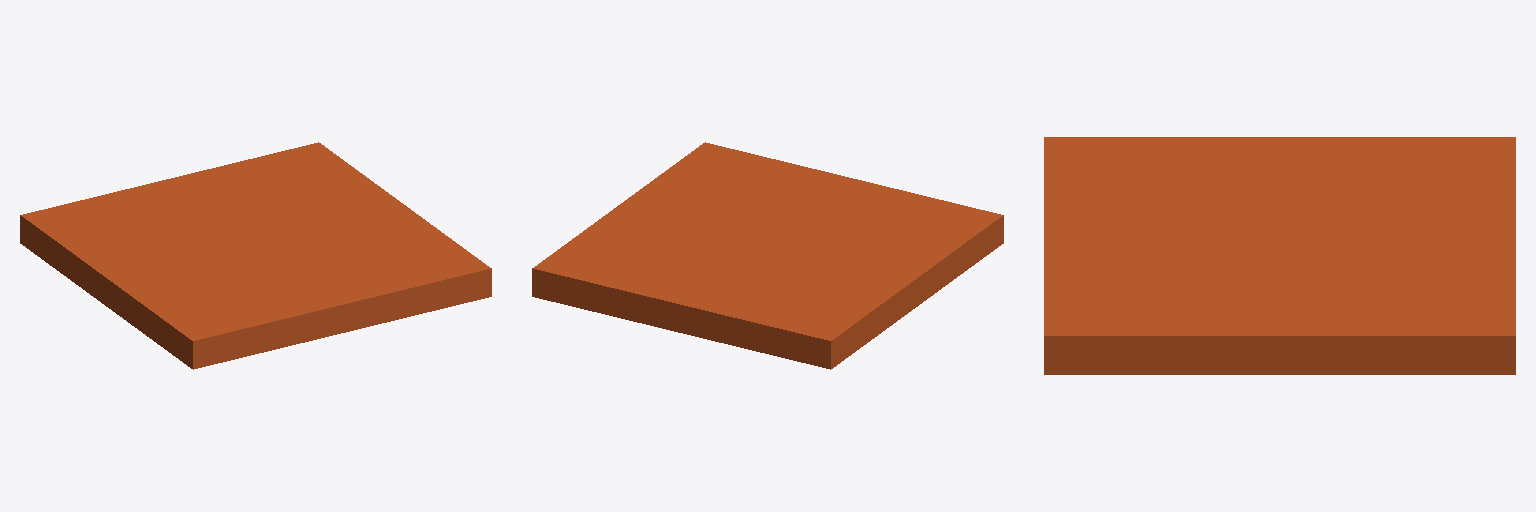
robot.urdf — lid:
<?xml version="1.0"?>
<robot name="lid">
  <material name="lid_mat">
    <color rgba="0.8 0.4 0.2 1.0"/>
  </material>

  <link name="base_link">
    <inertial>
      <mass value="0.1"/>
      <origin xyz="0 0 0" rpy="0 0 0"/>
      <inertia ixx="0.001" ixy="0" ixz="0" iyy="0.001" iyz="0" izz="0.001"/>
    </inertial>
    <visual>
      <origin xyz="0 0 0" rpy="0 0 0"/>
      <geometry>
        <box size="0.22 0.22 0.02"/>
      </geometry>
      <material name="lid_mat"/>
    </visual>
    <collision>
      <origin xyz="0 0 0" rpy="0 0 0"/>
      <geometry>
        <box size="0.22 0.22 0.02"/>
      </geometry>
    </collision>
  </link>
</robot>

--- What the picture shows (computed from the rendered views, not written in the file) ---
The picture shows the robot from 3 angles, left to right: view 1: azimuth 30°, elevation 25°; view 2: azimuth 150°, elevation 25°; view 3: azimuth 270°, elevation 25°; orthographic projection.
Robot: lid — 1 links, 0 joints (none); root link base_link; default pose: all joints at 0.
Visible links, largest first — view 1: base_link; view 2: base_link; view 3: base_link.
Link boxes in pixels (x1,y1,x2,y2): base_link: (20,142,491,369); base_link: (532,142,1003,369); base_link: (1044,137,1515,374).
Size in the robot's own frame: 0.22 by 0.22 by 0.02 metres.
Geometry: primitives only (box / cylinder / sphere), no mesh files.
